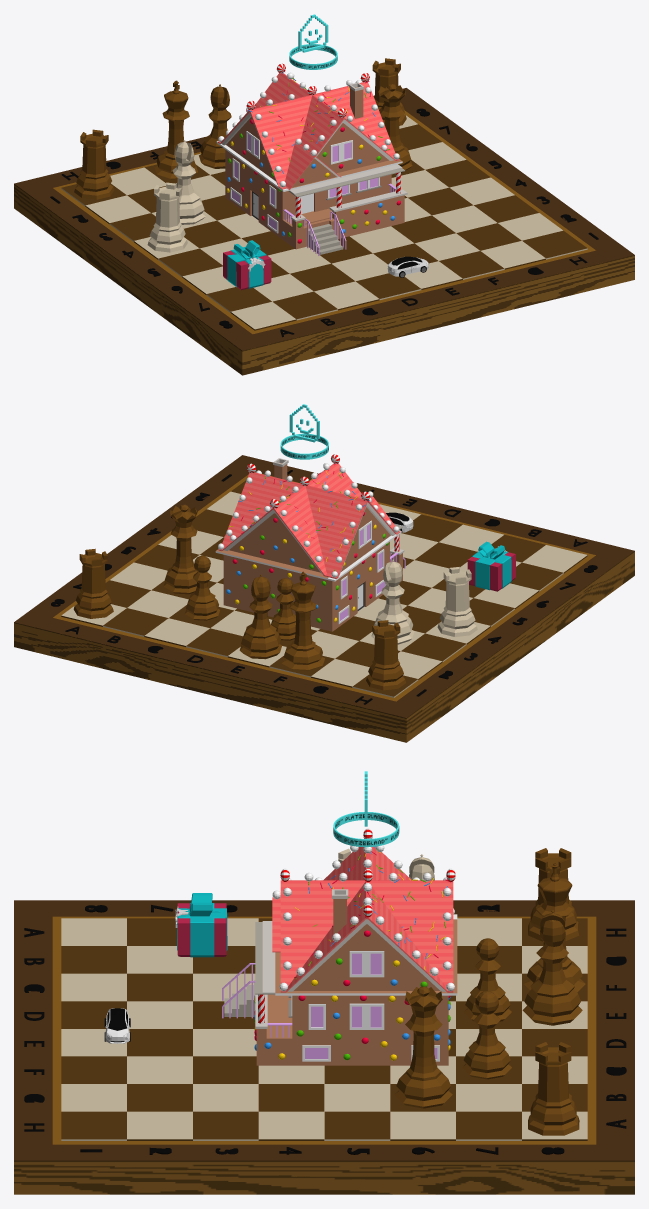
3 views of the same model, one above another, from view 1: azimuth 30°, elevation 25°; view 2: azimuth 150°, elevation 25°; view 3: azimuth 270°, elevation 25° (orthographic). The views are drawn at different scales.
Parts seen in each view (by area): view 1: Cube.002, Cube.1203, OBJRANDOM_GIANT_PRESENT, TYPE_PREMIUM, VEHICLES_TESLA; view 2: Cube.002, Cube.1203, OBJRANDOM_GIANT_PRESENT, TYPE_PREMIUM; view 3: Cube.002, Cube.1203, OBJRANDOM_GIANT_PRESENT, TYPE_PREMIUM, VEHICLES_TESLA.
Boxes of the visible parts, left/top/right/bottom form: Cube.002: left=14, top=58, right=634, bottom=375; Cube.1203: left=216, top=63, right=407, bottom=255; OBJRANDOM_GIANT_PRESENT: left=223, top=240, right=271, bottom=290; TYPE_PREMIUM: left=289, top=14, right=337, bottom=69; VEHICLES_TESLA: left=387, top=256, right=428, bottom=277; Cube.002: left=14, top=455, right=634, bottom=742; Cube.1203: left=215, top=454, right=405, bottom=631; OBJRANDOM_GIANT_PRESENT: left=467, top=541, right=515, bottom=591; TYPE_PREMIUM: left=280, top=404, right=328, bottom=459; Cube.002: left=14, top=848, right=634, bottom=1194; Cube.1203: left=222, top=828, right=457, bottom=1065; OBJRANDOM_GIANT_PRESENT: left=175, top=893, right=227, bottom=957; TYPE_PREMIUM: left=333, top=771, right=399, bottom=847; VEHICLES_TESLA: left=104, top=1008, right=130, bottom=1043.
Bounding box in the file's own units: 3981 × 2181 × 4012.
37 materials, 4 textured.
